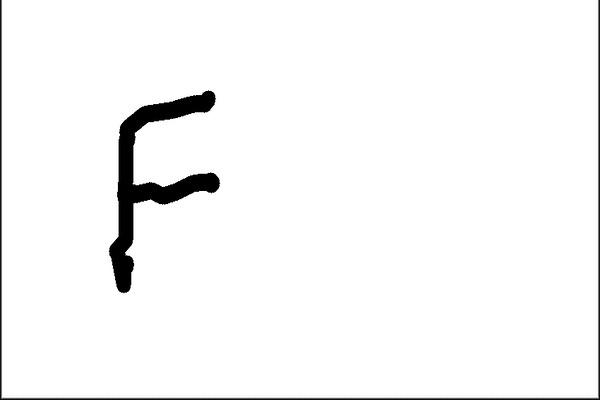F: (102, 86, 226, 296)
